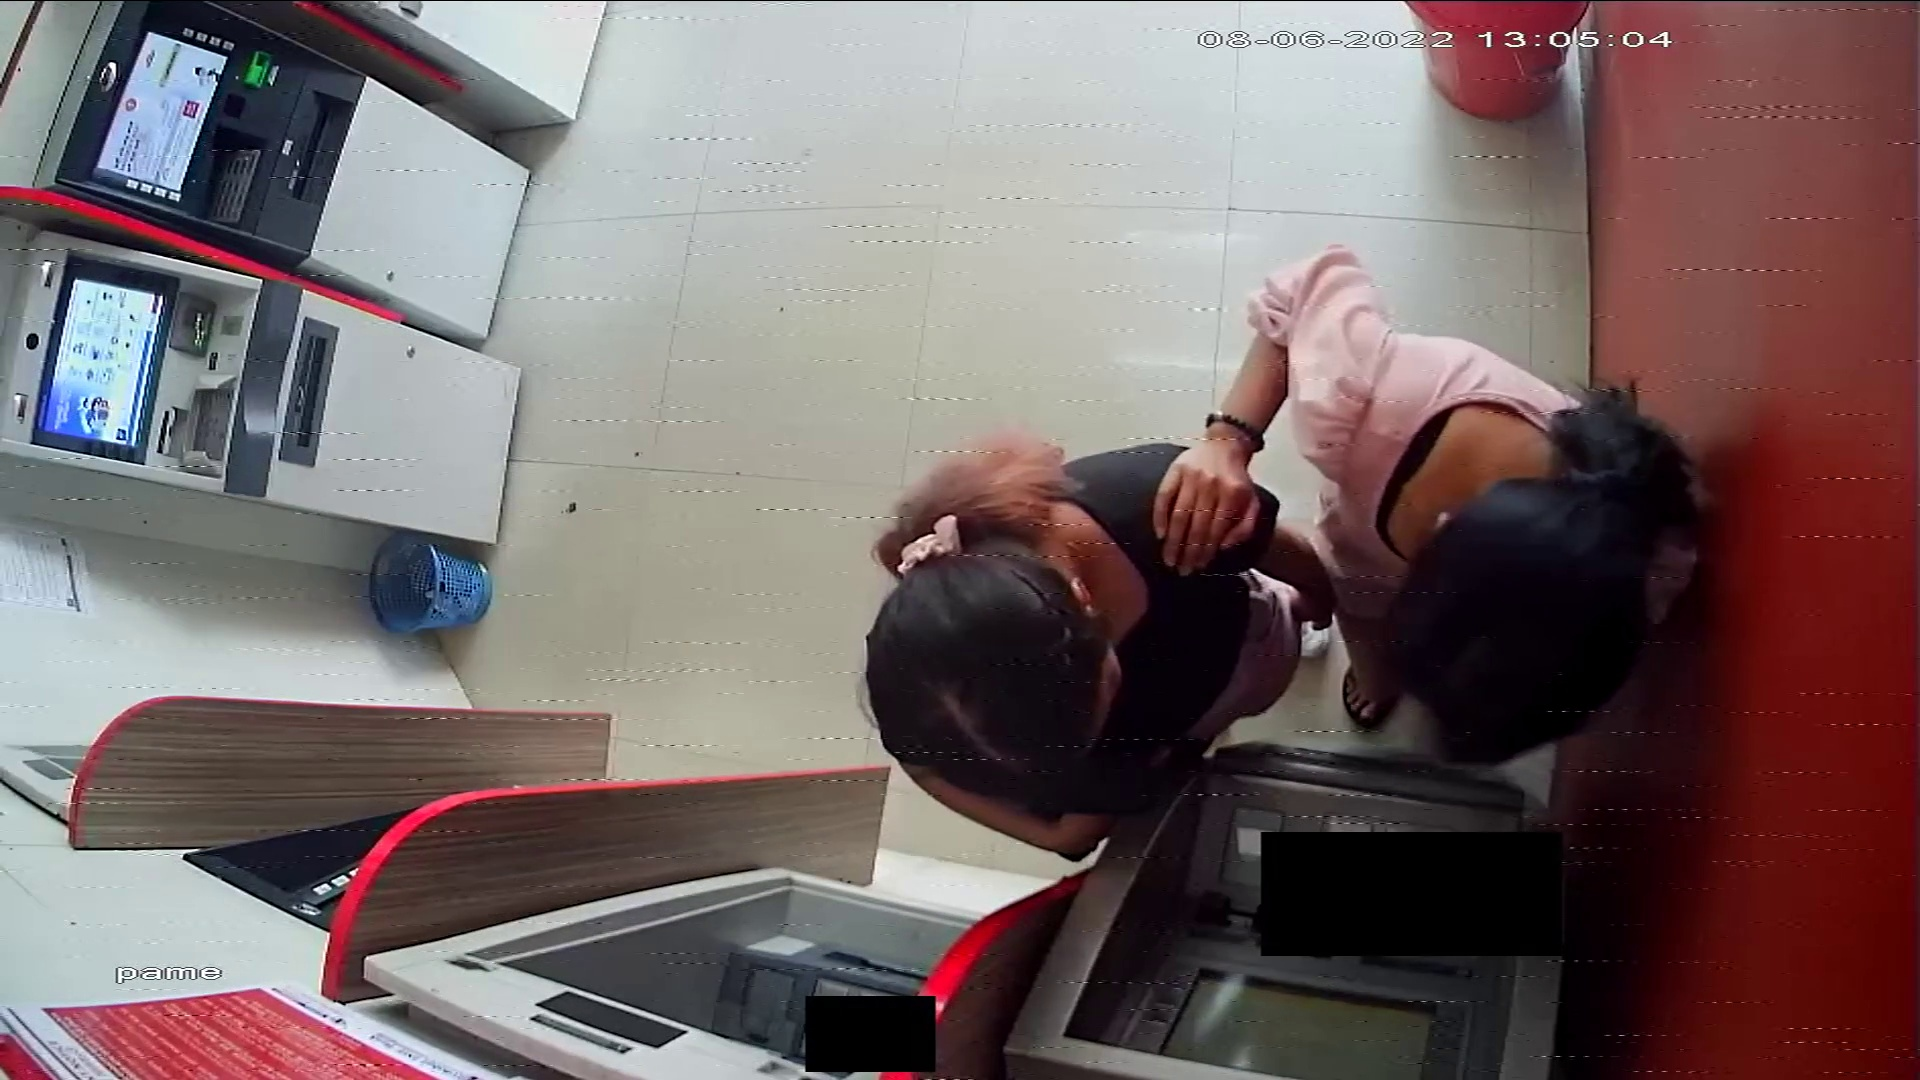person: (1151, 240, 1709, 768), (863, 440, 1337, 863)
